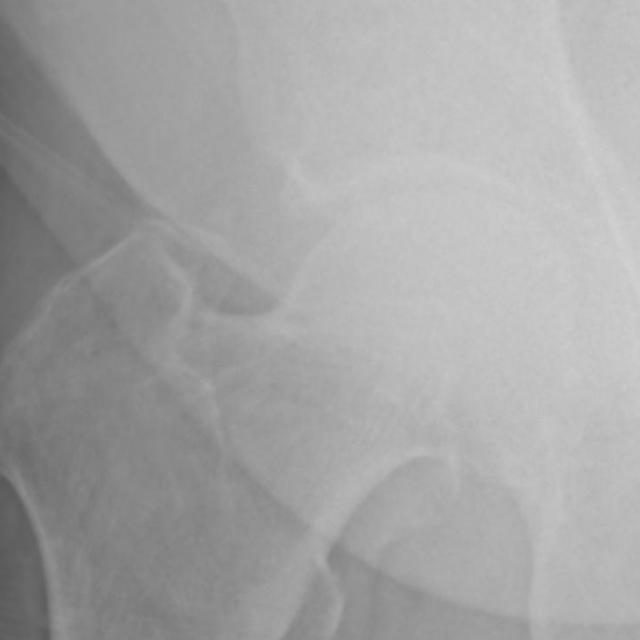Fitted_femural_head: (322, 189, 432, 322)
